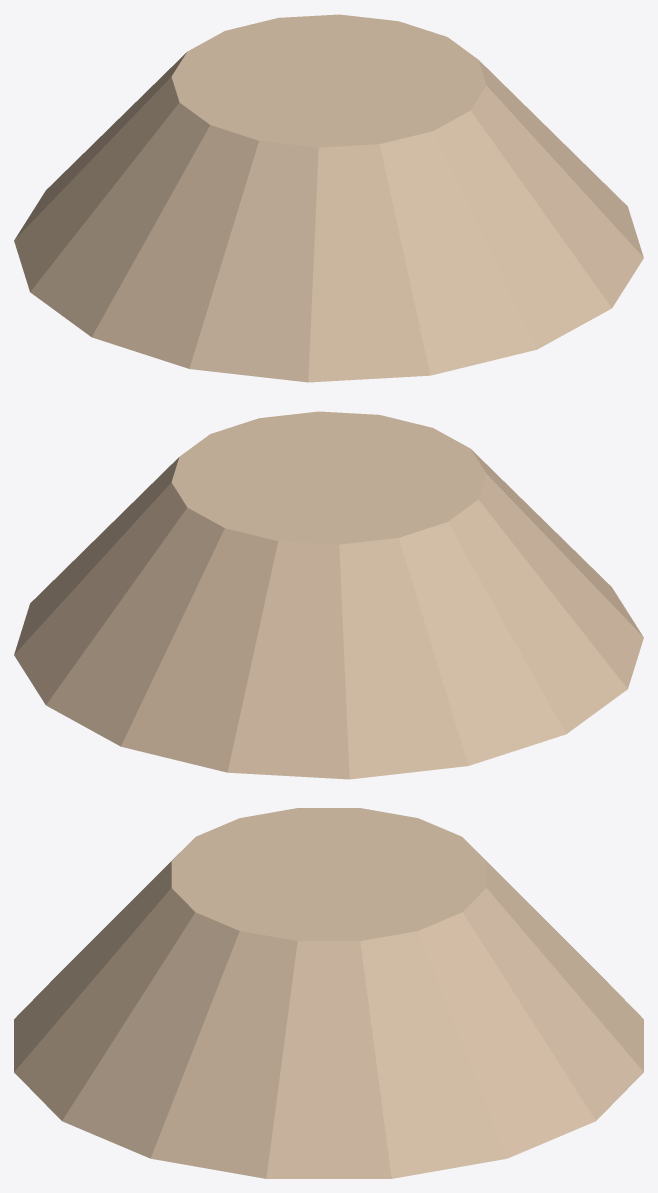
File: vega_crew_s2_s1_collider.obj
3 views of the same model, one above another, from view 1: azimuth 30°, elevation 25°; view 2: azimuth 150°, elevation 25°; view 3: azimuth 270°, elevation 25° (orthographic).
Parts seen in each view (by area): view 1: collider; view 2: collider; view 3: collider.
Part boxes in pixels (x1,y1,x2,y2): collider: [14, 14, 643, 382]; collider: [14, 411, 643, 779]; collider: [14, 808, 643, 1178].
Bounding box in the file's own units: 2.5 × 0.75 × 2.5.
